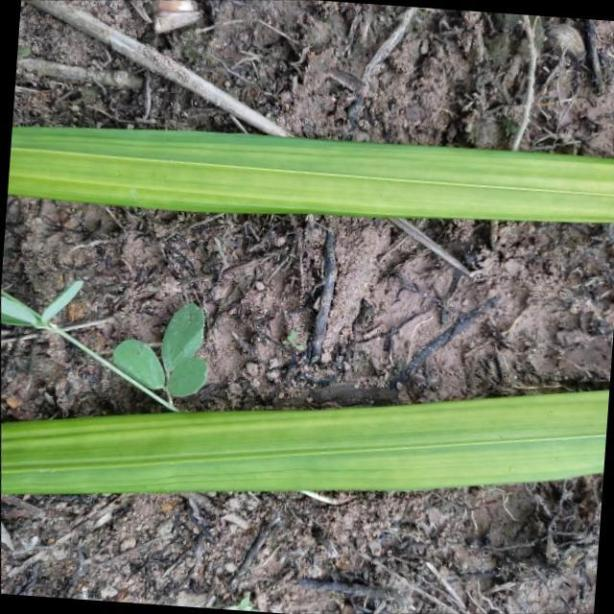nitrogen: (1, 385, 614, 493), (0, 117, 614, 222)
